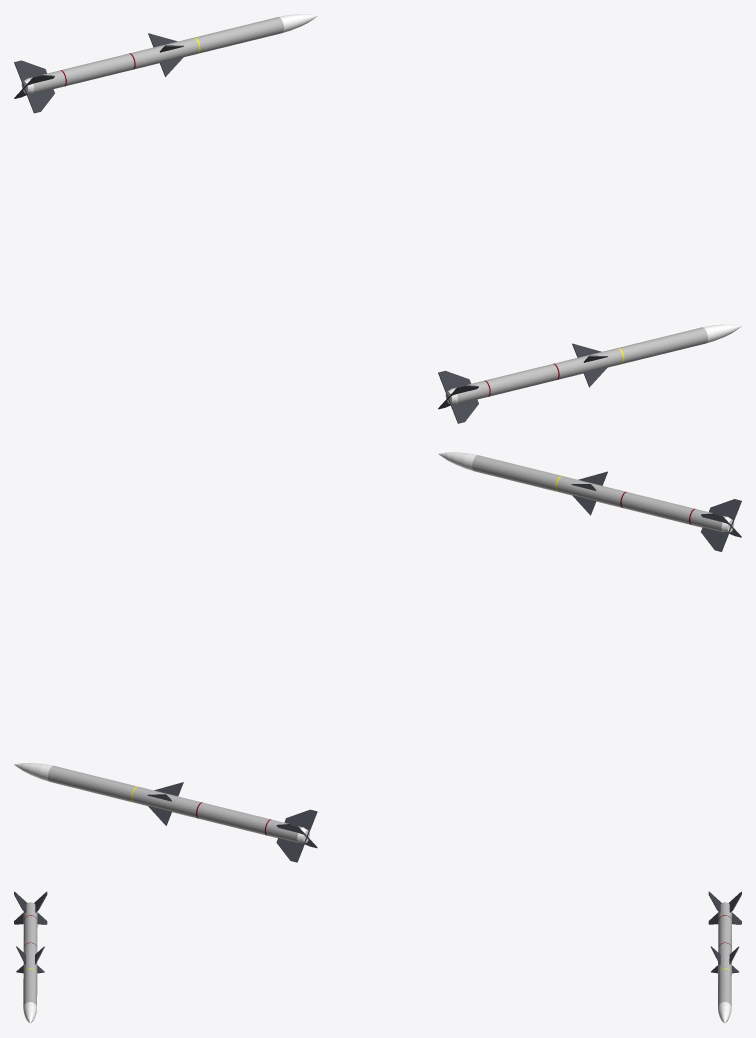
The model's file is f16caim12016.glb.
3 renders of one model, top to bottom at view 1: azimuth 30°, elevation 25°; view 2: azimuth 150°, elevation 25°; view 3: azimuth 270°, elevation 25°, orthographic. The views are drawn at different scales.
Parts seen in each view (by area): view 1: 円柱.004, 円柱.003; view 2: 円柱.003, 円柱.004; view 3: 円柱.004, 円柱.003.
Part boxes in pixels (x1,y1,x2,y2): 円柱.004: (438, 324, 741, 423); 円柱.003: (14, 14, 317, 113); 円柱.003: (14, 763, 317, 862); 円柱.004: (438, 452, 741, 551); 円柱.004: (14, 891, 47, 1023); 円柱.003: (708, 891, 741, 1023).
Bounding box in the file's own units: 4.39 × 0.5295 × 11.5.
Materials: 4 (4 with a texture image).
